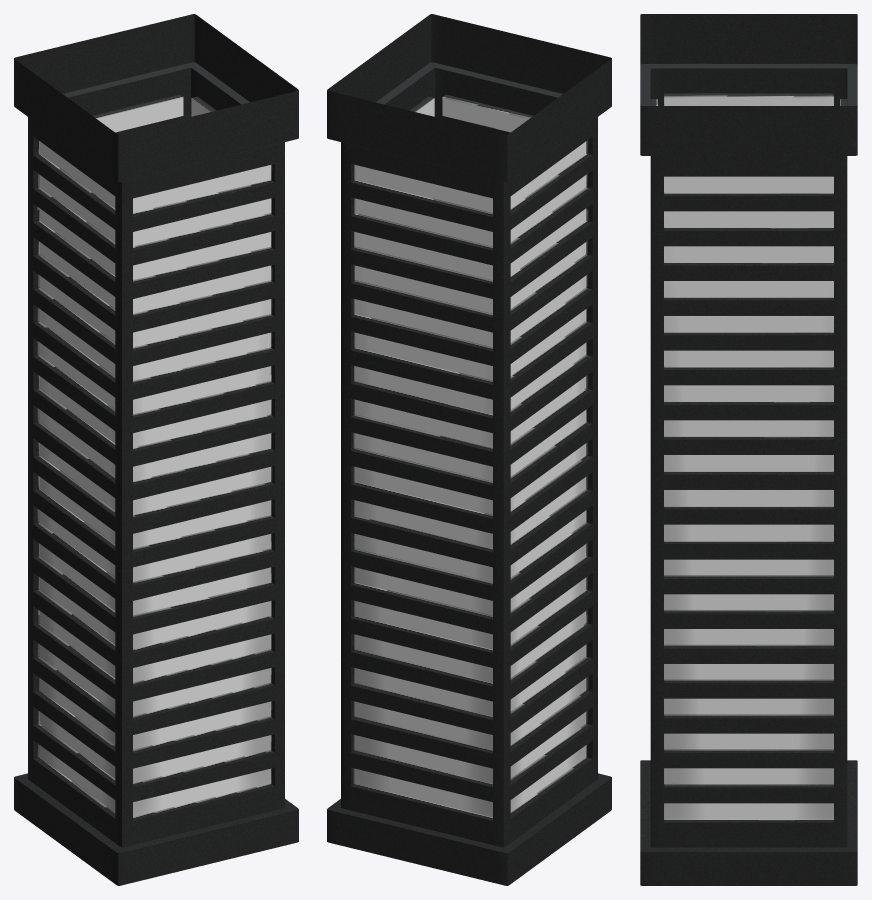
Rendered from Column03.FBX.
The picture shows the model from 3 angles, left to right: view 1: azimuth 30°, elevation 25°; view 2: azimuth 150°, elevation 25°; view 3: azimuth 270°, elevation 25°; orthographic projection. The views are drawn at different scales.
Parts seen in each view (by area): view 1: Column03; view 2: Column03; view 3: Column03.
Boxes of the visible parts, box(x1,y1,x2,y2) form: Column03: box(14, 14, 298, 885); Column03: box(327, 14, 611, 885); Column03: box(640, 14, 857, 885).
Bounding box in the file's own units: 88.48 × 350 × 88.48.
